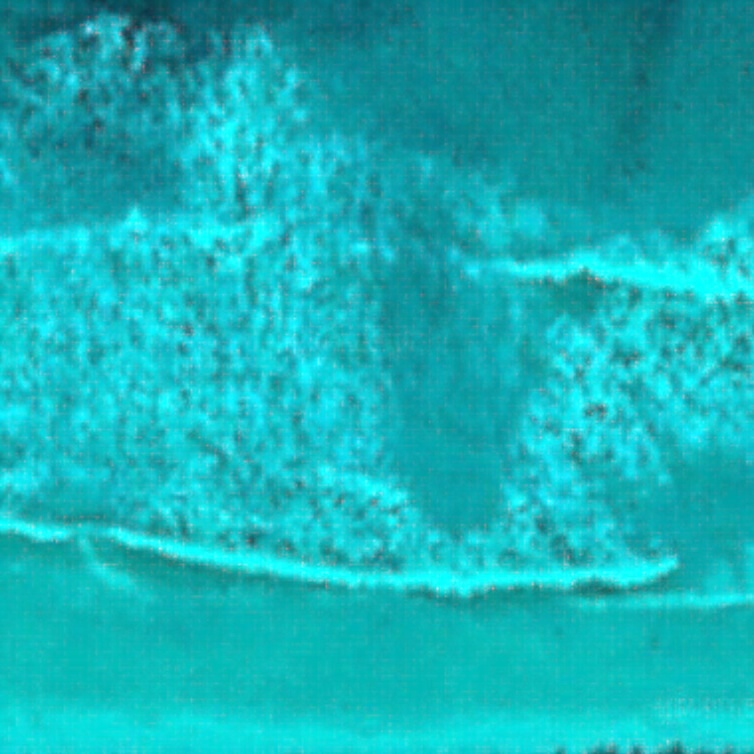rip_current: (281, 116, 614, 561)
